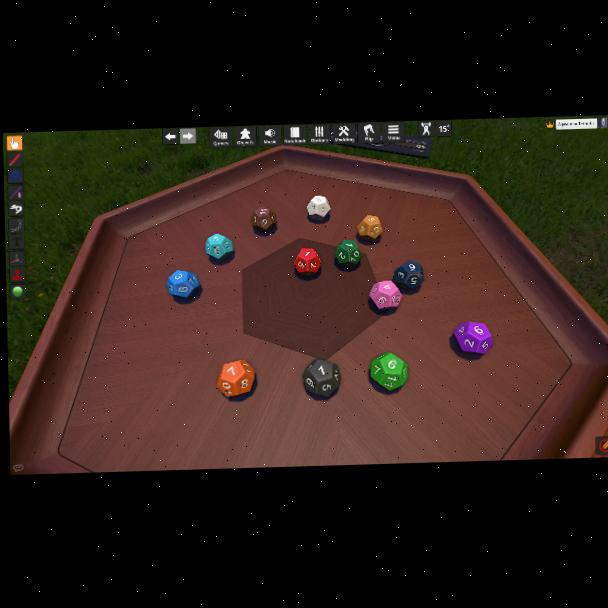d12: (370, 352, 409, 392), (302, 356, 340, 397), (217, 359, 256, 398), (452, 320, 491, 353), (168, 268, 201, 299), (393, 261, 424, 292), (368, 280, 399, 310), (205, 233, 232, 262), (294, 248, 320, 276), (251, 207, 277, 233), (357, 216, 382, 243), (335, 240, 359, 266), (306, 195, 330, 221)
